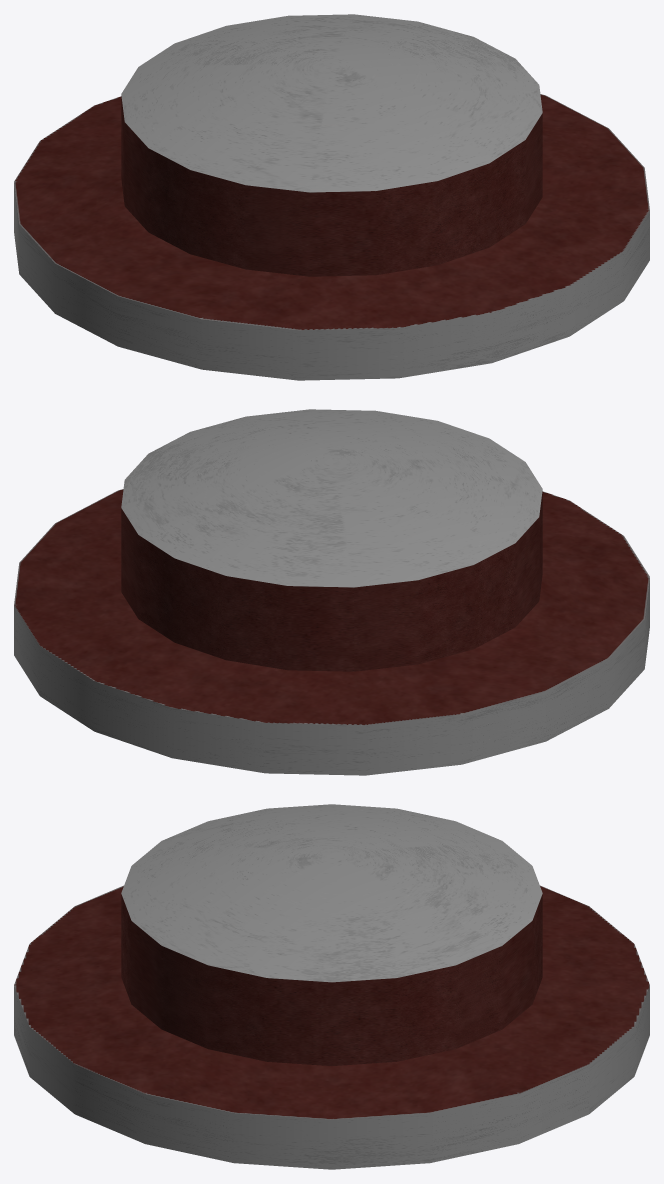
File: bancoelevador.obj
3 views of the same model, one above another, from view 1: azimuth 30°, elevation 25°; view 2: azimuth 150°, elevation 25°; view 3: azimuth 270°, elevation 25° (orthographic).
Parts seen in each view (by area): view 1: bancoelevador:pCylinder6; view 2: bancoelevador:pCylinder6; view 3: bancoelevador:pCylinder6.
Boxes of the visible parts, x1=… form: bancoelevador:pCylinder6: x1=14, y1=14, x2=649, y2=380; bancoelevador:pCylinder6: x1=14, y1=409, x2=649, y2=775; bancoelevador:pCylinder6: x1=14, y1=804, x2=649, y2=1169.
Bounding box in the file's own units: 4.47 × 1.48 × 4.47.
Materials: 1 (1 with a texture image).
